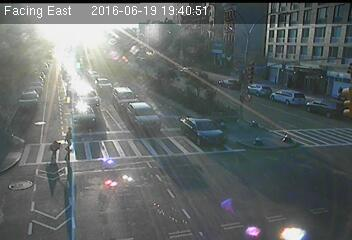neg: (188, 133, 230, 189), (289, 76, 318, 115), (150, 29, 178, 66), (98, 74, 125, 111), (108, 34, 135, 71), (52, 58, 75, 88), (81, 32, 102, 59), (223, 76, 243, 102)
pos: (56, 124, 78, 154)
